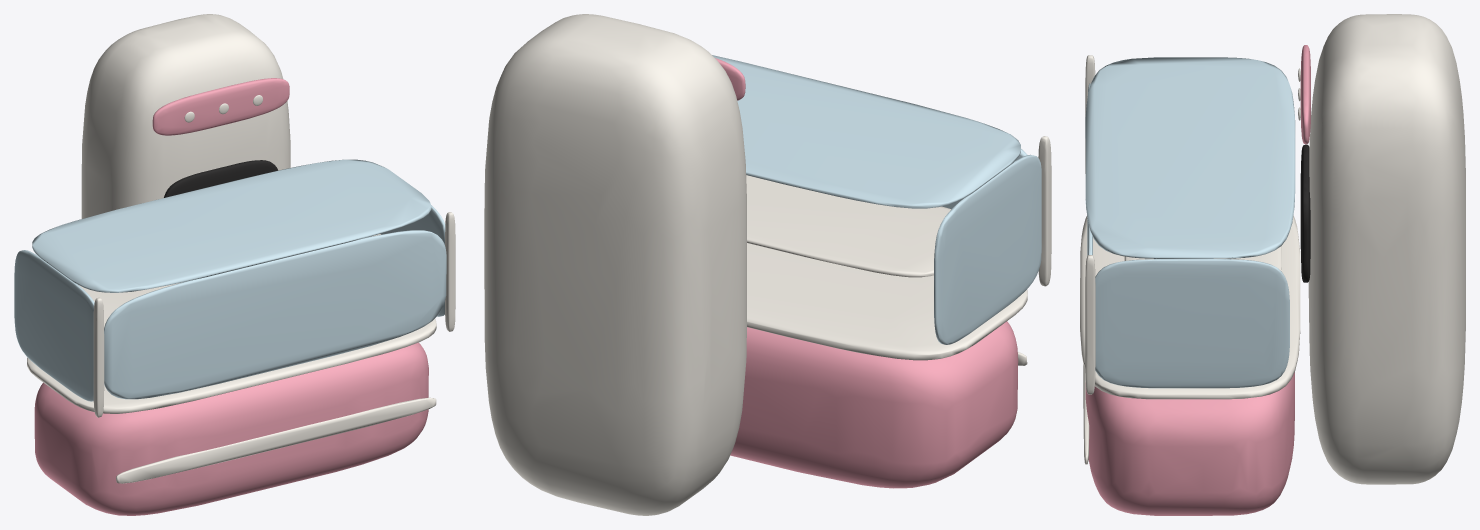
Rendered from vitrina_panaderia_3.glb.
The picture shows the model from 3 angles, left to right: view 1: azimuth 30°, elevation 25°; view 2: azimuth 150°, elevation 25°; view 3: azimuth 270°, elevation 25°; orthographic projection. The views are drawn at different scales.
Visible parts, largest first — view 1: vidrio frente, mostrador, vidrio techo, horno, vidrio lado, franja.001, piso vitrina, letrero.010, boca horno, marco.015, marco.016, repisa.011 (+1 smaller); view 2: horno, mostrador, vidrio techo, piso vitrina, vidrio lado, repisa.011, marco.015; view 3: horno, vidrio techo, vidrio lado.001, mostrador, piso vitrina, marco.016, boca horno, letrero.010, repisa.011.
Boxes of the visible parts, <box> form: vidrio frente: <box>104,230,446,399</box>; mostrador: <box>34,342,428,515</box>; vidrio techo: <box>32,159,431,292</box>; horno: <box>81,14,290,218</box>; vidrio lado: <box>14,250,94,401</box>; franja.001: <box>116,397,436,483</box>; piso vitrina: <box>27,319,436,413</box>; letrero.010: <box>152,78,289,135</box>; boca horno: <box>164,160,278,197</box>; marco.015: <box>93,297,104,417</box>; marco.016: <box>445,212,455,331</box>; repisa.011: <box>78,234,380,327</box>; horno: <box>484,14,746,515</box>; mostrador: <box>730,321,1018,488</box>; vidrio techo: <box>712,55,1020,208</box>; piso vitrina: <box>747,243,1027,360</box>; vidrio lado: <box>934,154,1041,344</box>; repisa.011: <box>746,175,950,277</box>; marco.015: <box>1038,136,1051,286</box>; horno: <box>1308,14,1465,484</box>; vidrio techo: <box>1085,57,1295,258</box>; vidrio lado.001: <box>1095,259,1289,388</box>; mostrador: <box>1085,372,1294,515</box>; piso vitrina: <box>1080,215,1300,399</box>; marco.016: <box>1085,255,1095,394</box>; boca horno: <box>1300,144,1310,282</box>; letrero.010: <box>1300,45,1310,144</box>; repisa.011: <box>1124,245,1281,270</box>.
Bounding box in the file's own units: 1.84 × 1.8 × 1.47.
